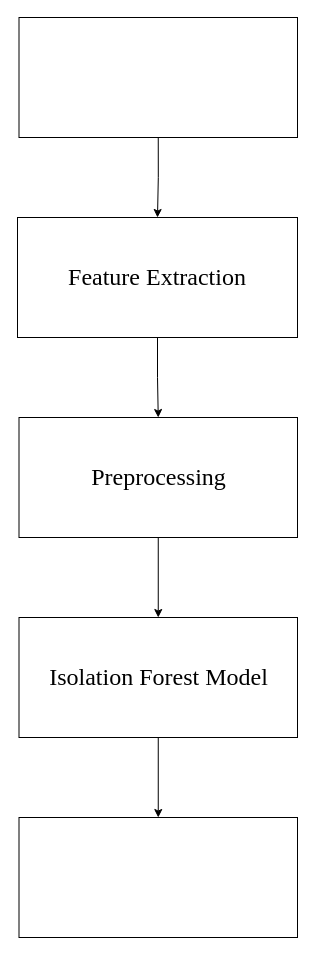
Some shapes in this 315 by 955 pixel diagram are drawn without their labels. Each missing label, with the box of its shape:
Anomaly Detection: (18, 816, 298, 938)
Network Traffic: (18, 16, 298, 138)
